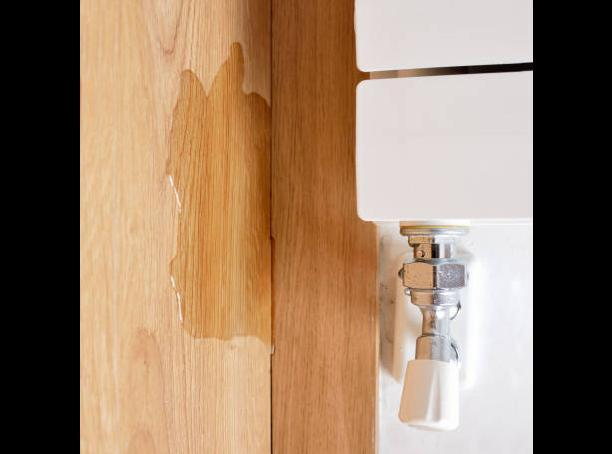water accumulation: (163, 41, 273, 356)
